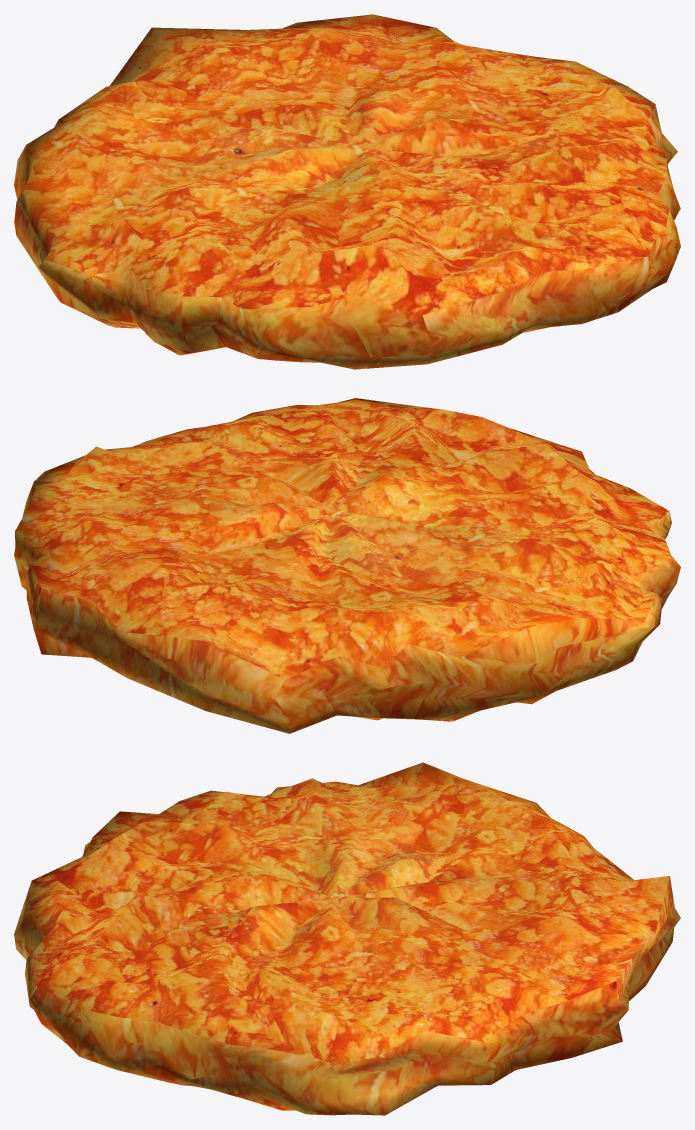
File: Crispy_Chicken.fbx
3 views of the same model, one above another, from view 1: azimuth 30°, elevation 25°; view 2: azimuth 150°, elevation 25°; view 3: azimuth 270°, elevation 25° (orthographic). The views are drawn at different scales.
Parts seen in each view (by area): view 1: Sphere; view 2: Sphere; view 3: Sphere.
Boxes of the visible parts, box(x1,y1,x2,y2) form: Sphere: box(14, 14, 680, 369); Sphere: box(14, 398, 680, 733); Sphere: box(14, 762, 680, 1115).
Bounding box in the file's own units: 434 × 92.29 × 412.
1 material, 1 textured.
